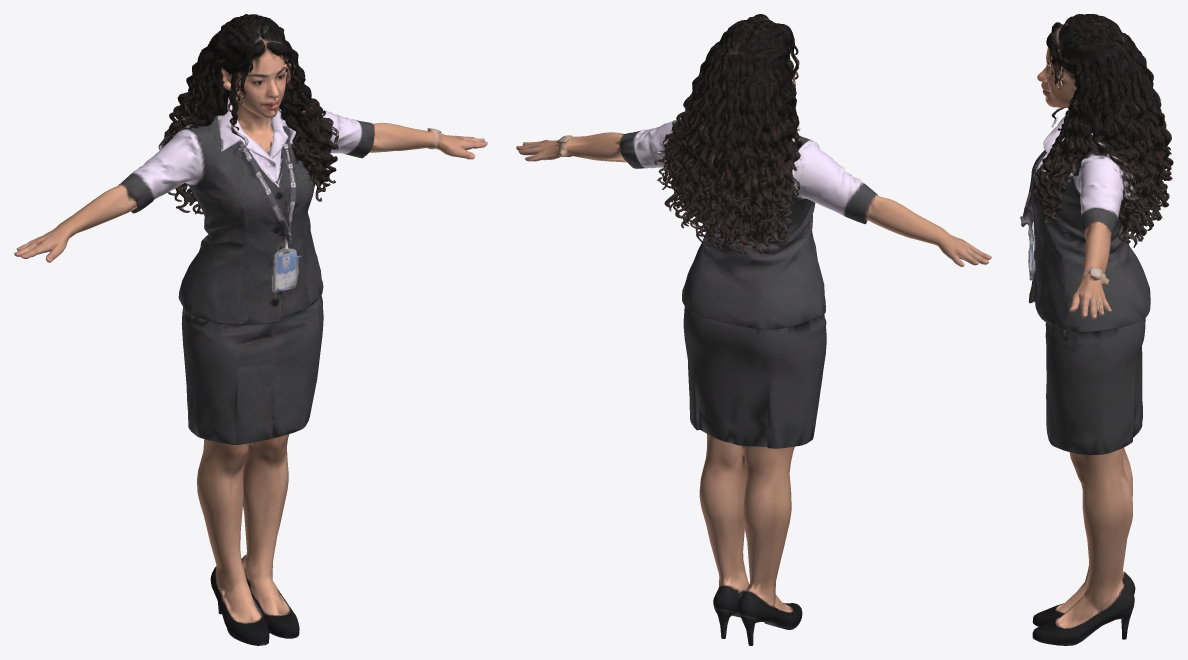
File: sivani-optimized.glb
3 views of the same model, side by side, from view 1: azimuth 30°, elevation 25°; view 2: azimuth 150°, elevation 25°; view 3: azimuth 270°, elevation 25° (orthographic).
Bounding box in the file's own units: 1.55 × 1.9 × 0.4304.
1 material, 1 textured.
